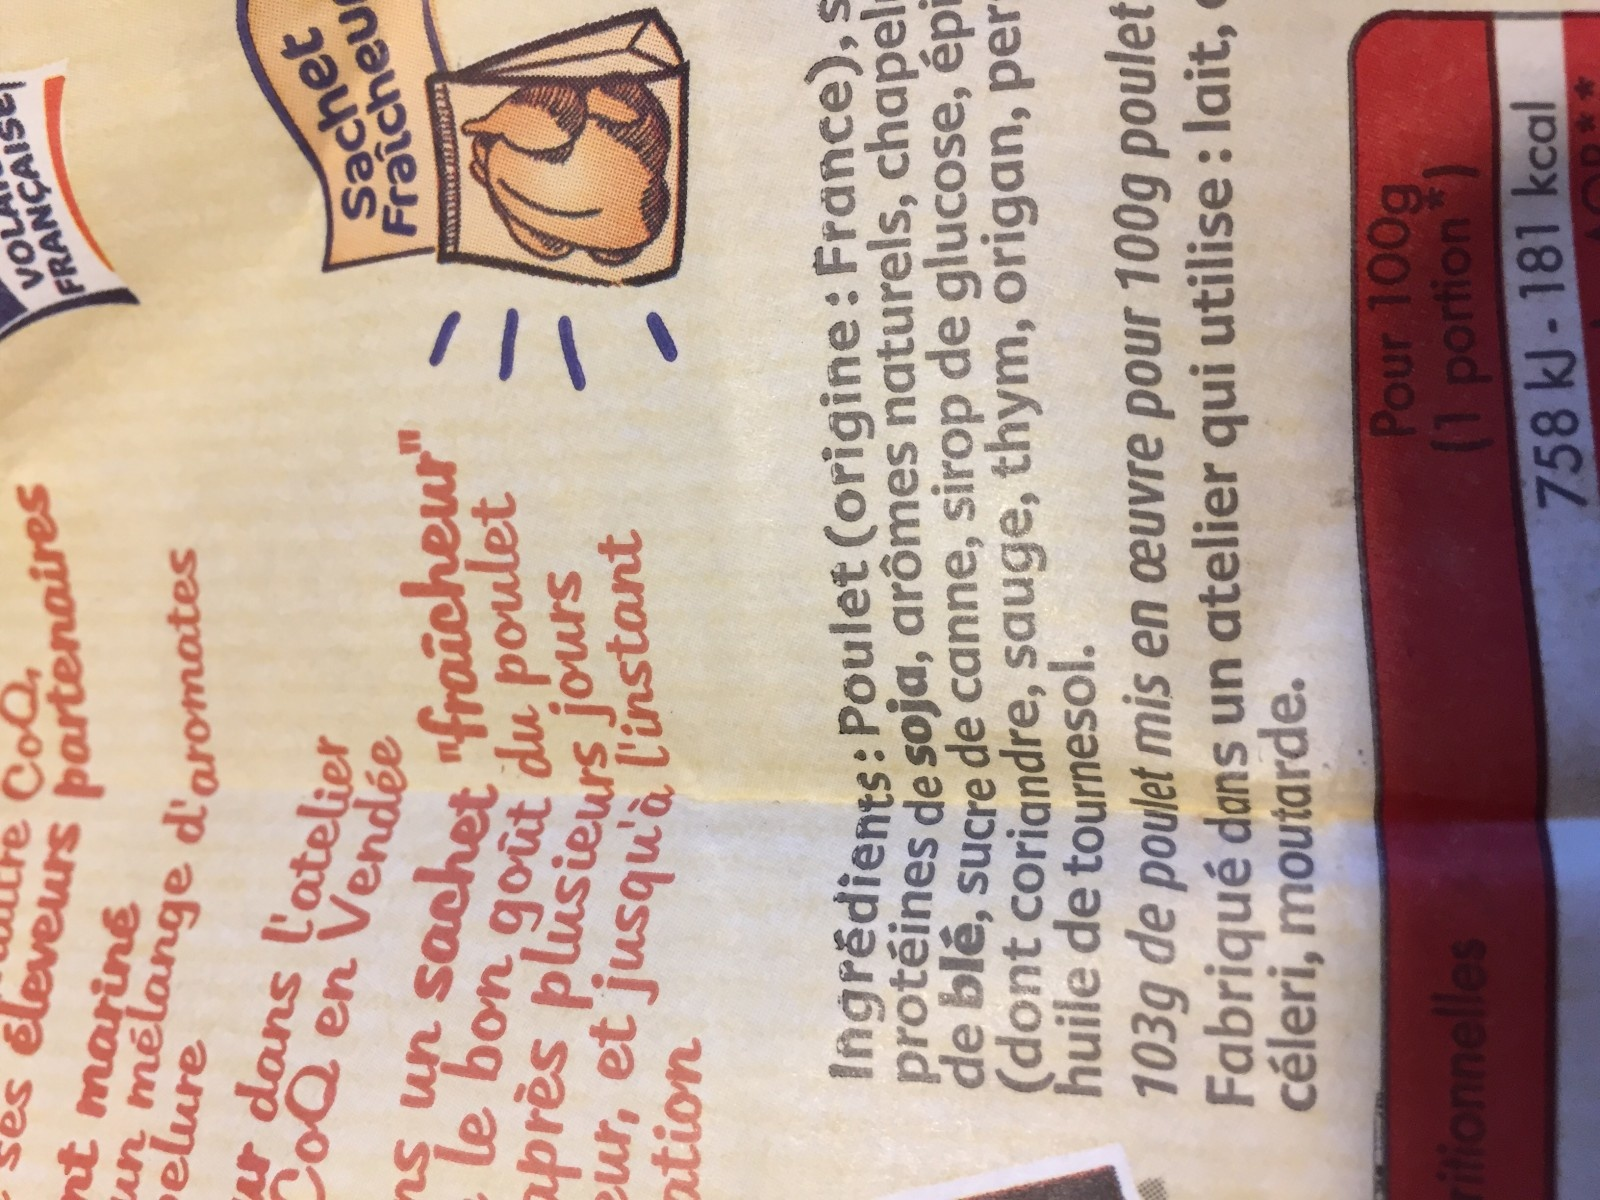ingredients: (786, 1, 1125, 1111)
